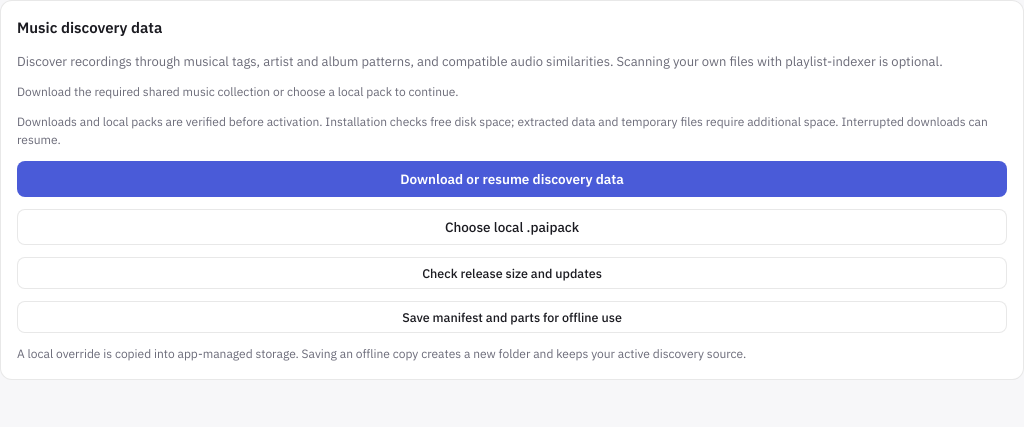
Test case: validates a local override before marking setup ready and switches back explicitly
The width and height of the screenshot is (1024, 427).
Click the button "Choose local .paipack" at (512, 227), box left=17, top=209, right=1007, bottom=245
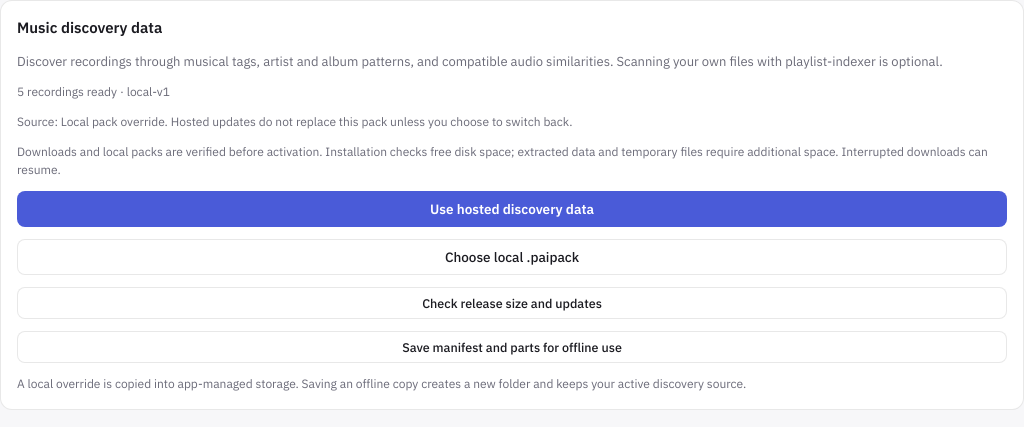
Check: the button named "Cancel import" is shown, box left=17, top=239, right=1007, bottom=275
Check: the text "Source: Local pack override" is shown, box left=17, top=114, right=572, bottom=129
Click the button "Use hosted discovery data" at (512, 209), box left=17, top=191, right=1007, bottom=227
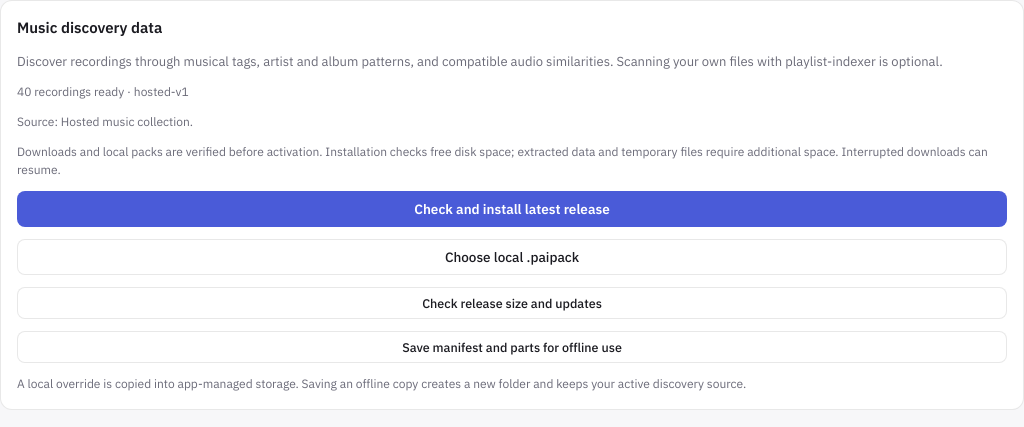
Check: the text "Source: Hosted music collection." is shown, box left=17, top=114, right=193, bottom=129
